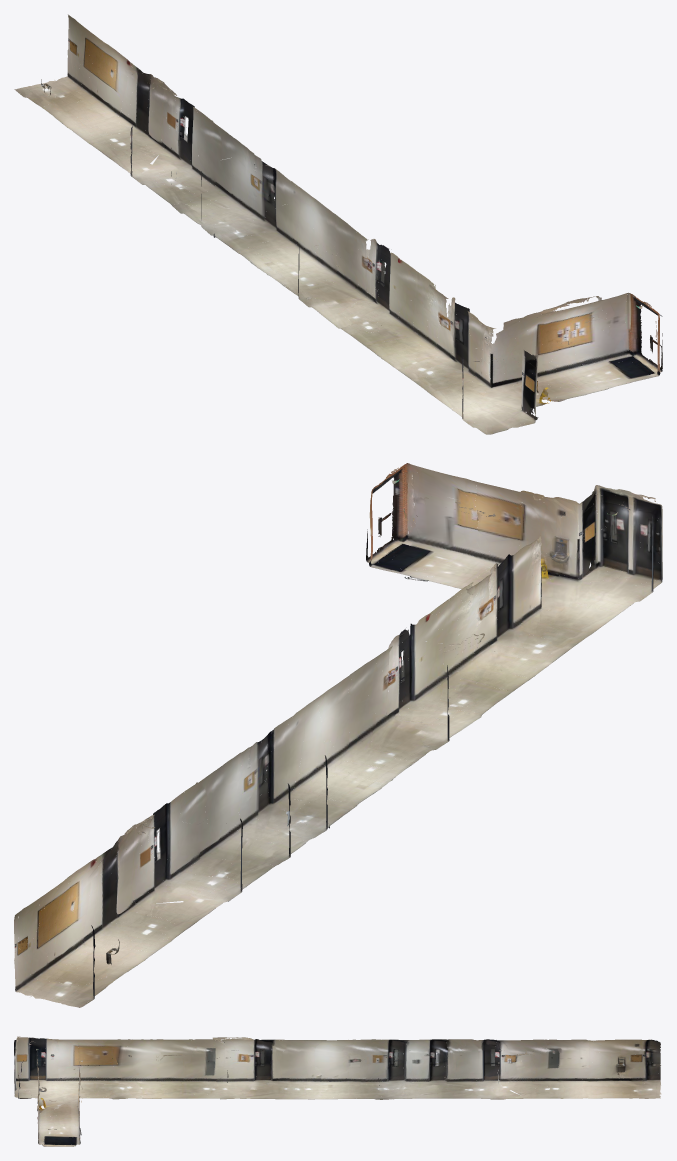
File: left1.glb
3 views of the same model, one above another, from view 1: azimuth 30°, elevation 25°; view 2: azimuth 150°, elevation 25°; view 3: azimuth 270°, elevation 25° (orthographic). The views are drawn at different scales.
Visible parts, largest first — view 1: left1_F1; view 2: left1_F1; view 3: left1_F1.
Boxes of the visible parts, bbox=[...] form: left1_F1: bbox=[14, 14, 662, 434]; left1_F1: bbox=[14, 463, 662, 1007]; left1_F1: bbox=[14, 1036, 661, 1146].
Size of the model in its own units: 8.8 by 2.9 by 35.68.
Materials: 1 (1 with a texture image).
